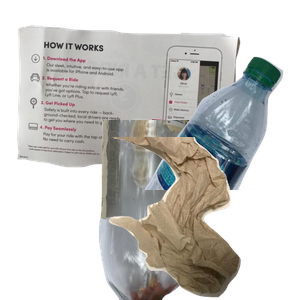glass: (96, 120, 283, 300)
paper: (14, 22, 247, 191)
plastic: (142, 54, 300, 234)
trash: (103, 137, 300, 300)
